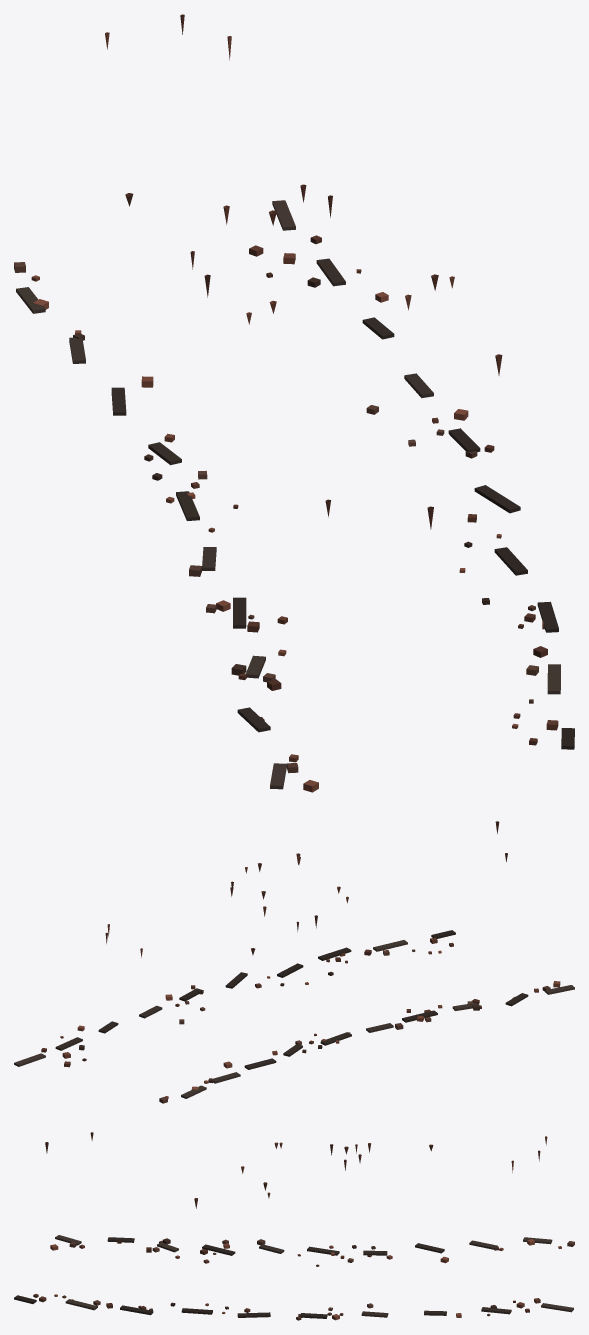
File: lava_tube_run_bend_n30_detail2.glb
3 views of the same model, one above another, from view 1: azimuth 30°, elevation 25°; view 2: azimuth 150°, elevation 25°; view 3: azimuth 270°, elevation 25° (orthographic). The views are drawn at different scales.
Parts seen in each view (by area): view 1: lava_tube_run_bend_n30_detail2; view 2: lava_tube_run_bend_n30_detail2; view 3: lava_tube_run_bend_n30_detail2.
Boxes of the visible parts, bbox=[...] form: lava_tube_run_bend_n30_detail2: bbox=[14, 14, 574, 792]; lava_tube_run_bend_n30_detail2: bbox=[14, 821, 574, 1103]; lava_tube_run_bend_n30_detail2: bbox=[14, 1132, 574, 1320].
Size of the model in its own units: 22.19 by 14.72 by 40.77.
